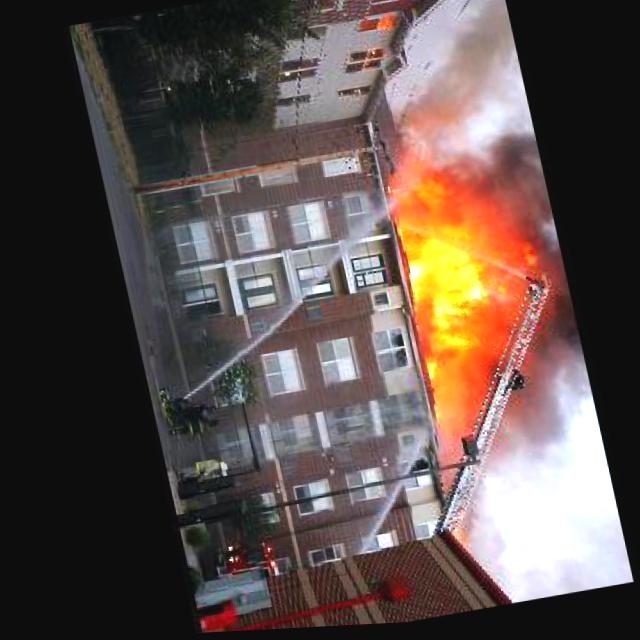Fire: (375, 147, 564, 400)
Smoke: (374, 15, 527, 158)
